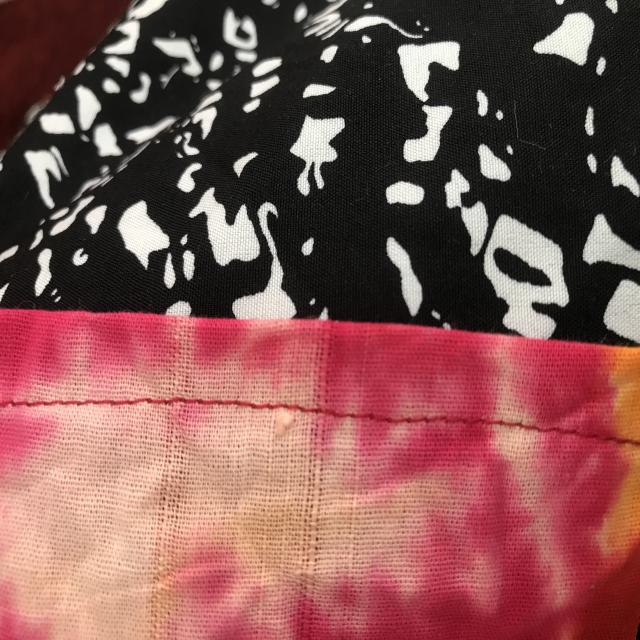good: (41, 389, 128, 414), (210, 388, 269, 422)
